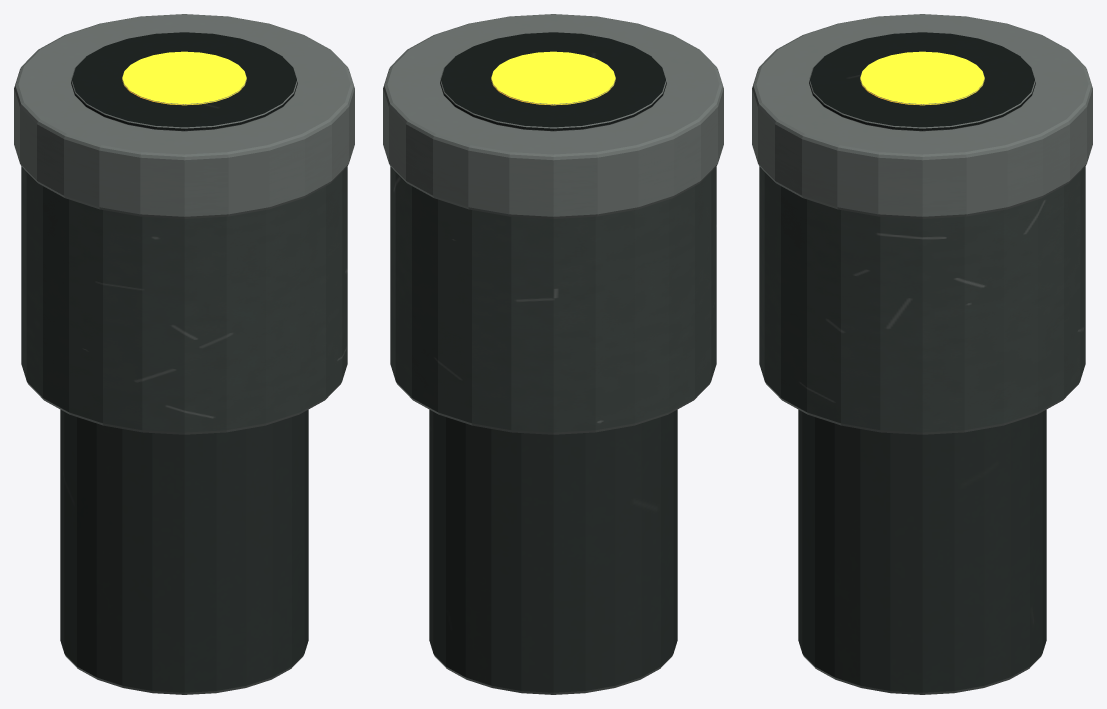
Rendered from arm_cannon-t1.glb.
The picture shows the model from 3 angles, left to right: view 1: azimuth 30°, elevation 25°; view 2: azimuth 150°, elevation 25°; view 3: azimuth 270°, elevation 25°; orthographic projection.
Parts seen in each view (by area): view 1: Emitter shell, Forearm recoil sleeve, Emitter collar, Deep emitter bore, Emitter recessed lens; view 2: Emitter shell, Forearm recoil sleeve, Emitter collar, Deep emitter bore, Emitter recessed lens; view 3: Emitter shell, Forearm recoil sleeve, Emitter collar, Deep emitter bore, Emitter recessed lens.
Boxes of the visible parts, <box> form: Emitter shell: <box>21,166,347,434</box>; Forearm recoil sleeve: <box>60,409,308,694</box>; Emitter collar: <box>14,14,354,218</box>; Deep emitter bore: <box>71,32,297,131</box>; Emitter recessed lens: <box>122,51,246,105</box>; Emitter shell: <box>390,166,716,434</box>; Forearm recoil sleeve: <box>429,409,677,694</box>; Emitter collar: <box>383,14,723,218</box>; Deep emitter bore: <box>440,32,666,131</box>; Emitter recessed lens: <box>491,51,615,105</box>; Emitter shell: <box>759,166,1085,434</box>; Forearm recoil sleeve: <box>798,409,1046,694</box>; Emitter collar: <box>752,14,1092,218</box>; Deep emitter bore: <box>809,32,1035,131</box>; Emitter recessed lens: <box>860,51,984,105</box>.
Size of the model in its own units: 0.48 by 0.88 by 0.48.
Materials: 5 (4 with a texture image).
